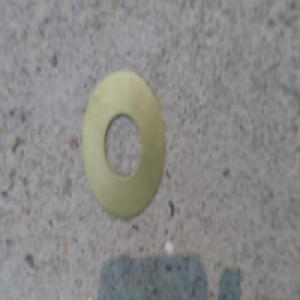Washer: (80, 73, 163, 215)
